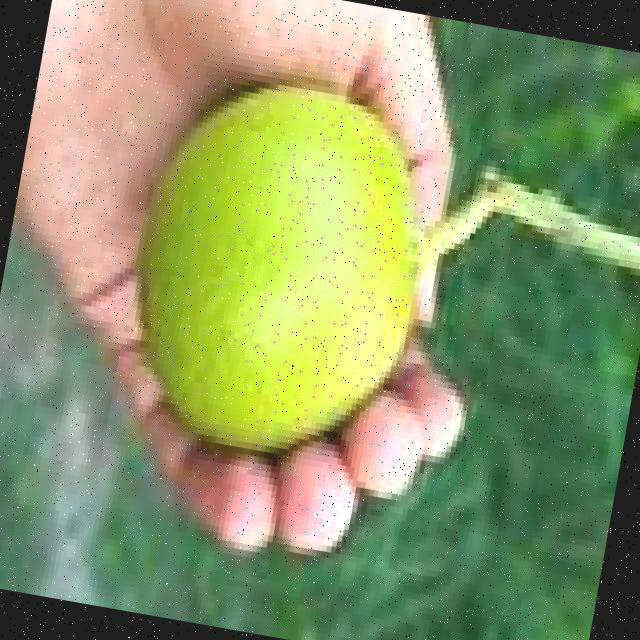Unripe: (110, 63, 447, 470)
